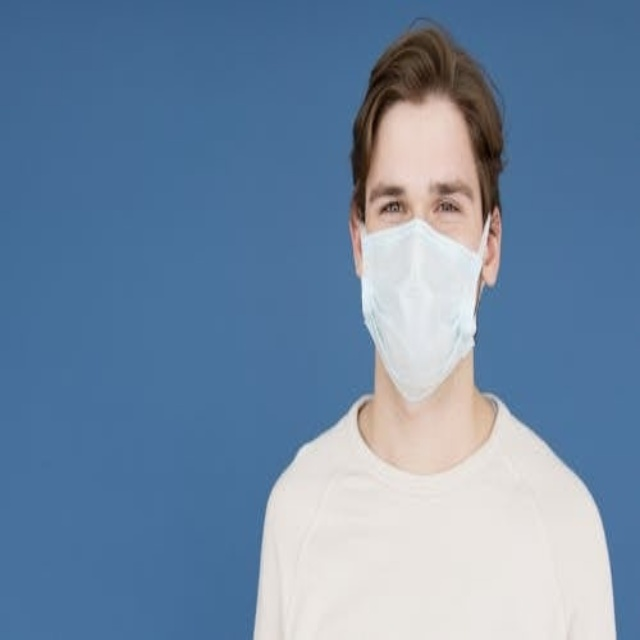Mascara: (358, 210, 489, 400)
Sin_gafas: (369, 169, 481, 235)
